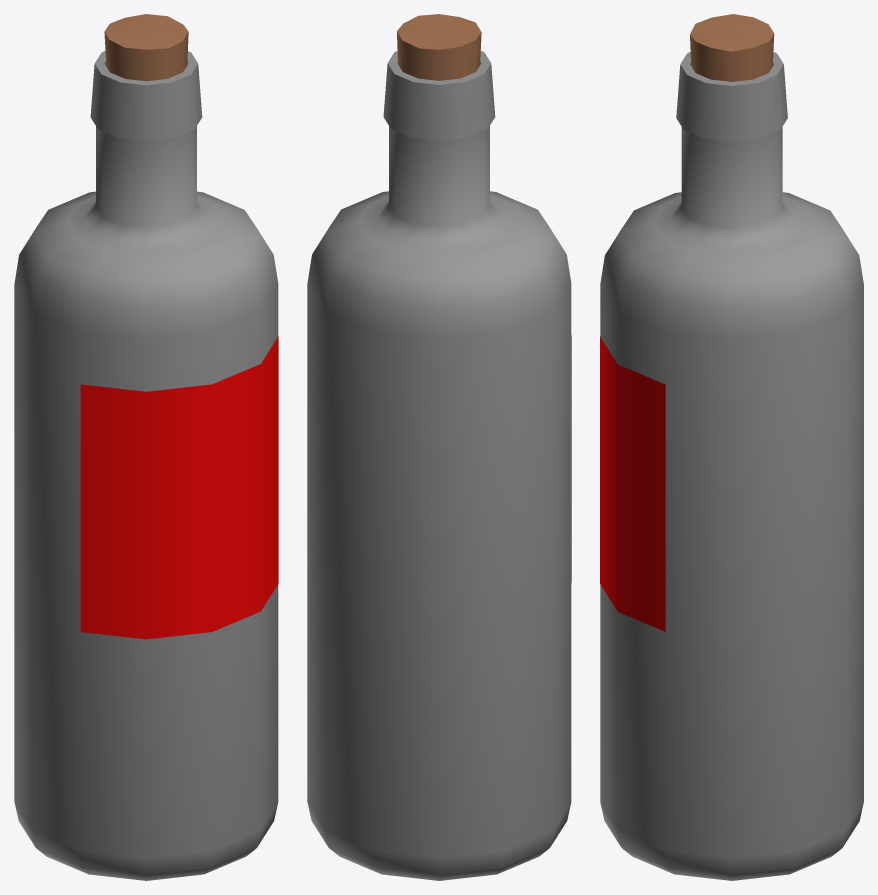
The model's file is Bottle02b.FBX.
3 renders of one model, left to right at view 1: azimuth 30°, elevation 25°; view 2: azimuth 150°, elevation 25°; view 3: azimuth 270°, elevation 25°, orthographic.
Visible parts, largest first — view 1: Bottle02b; view 2: Bottle02b; view 3: Bottle02b.
Part boxes in pixels (box(x1,y1,x2,y2)): Bottle02b: box(14, 14, 278, 880); Bottle02b: box(307, 14, 571, 880); Bottle02b: box(600, 14, 863, 880).
Bounding box in the file's own units: 3.13 × 10.54 × 3.13.
